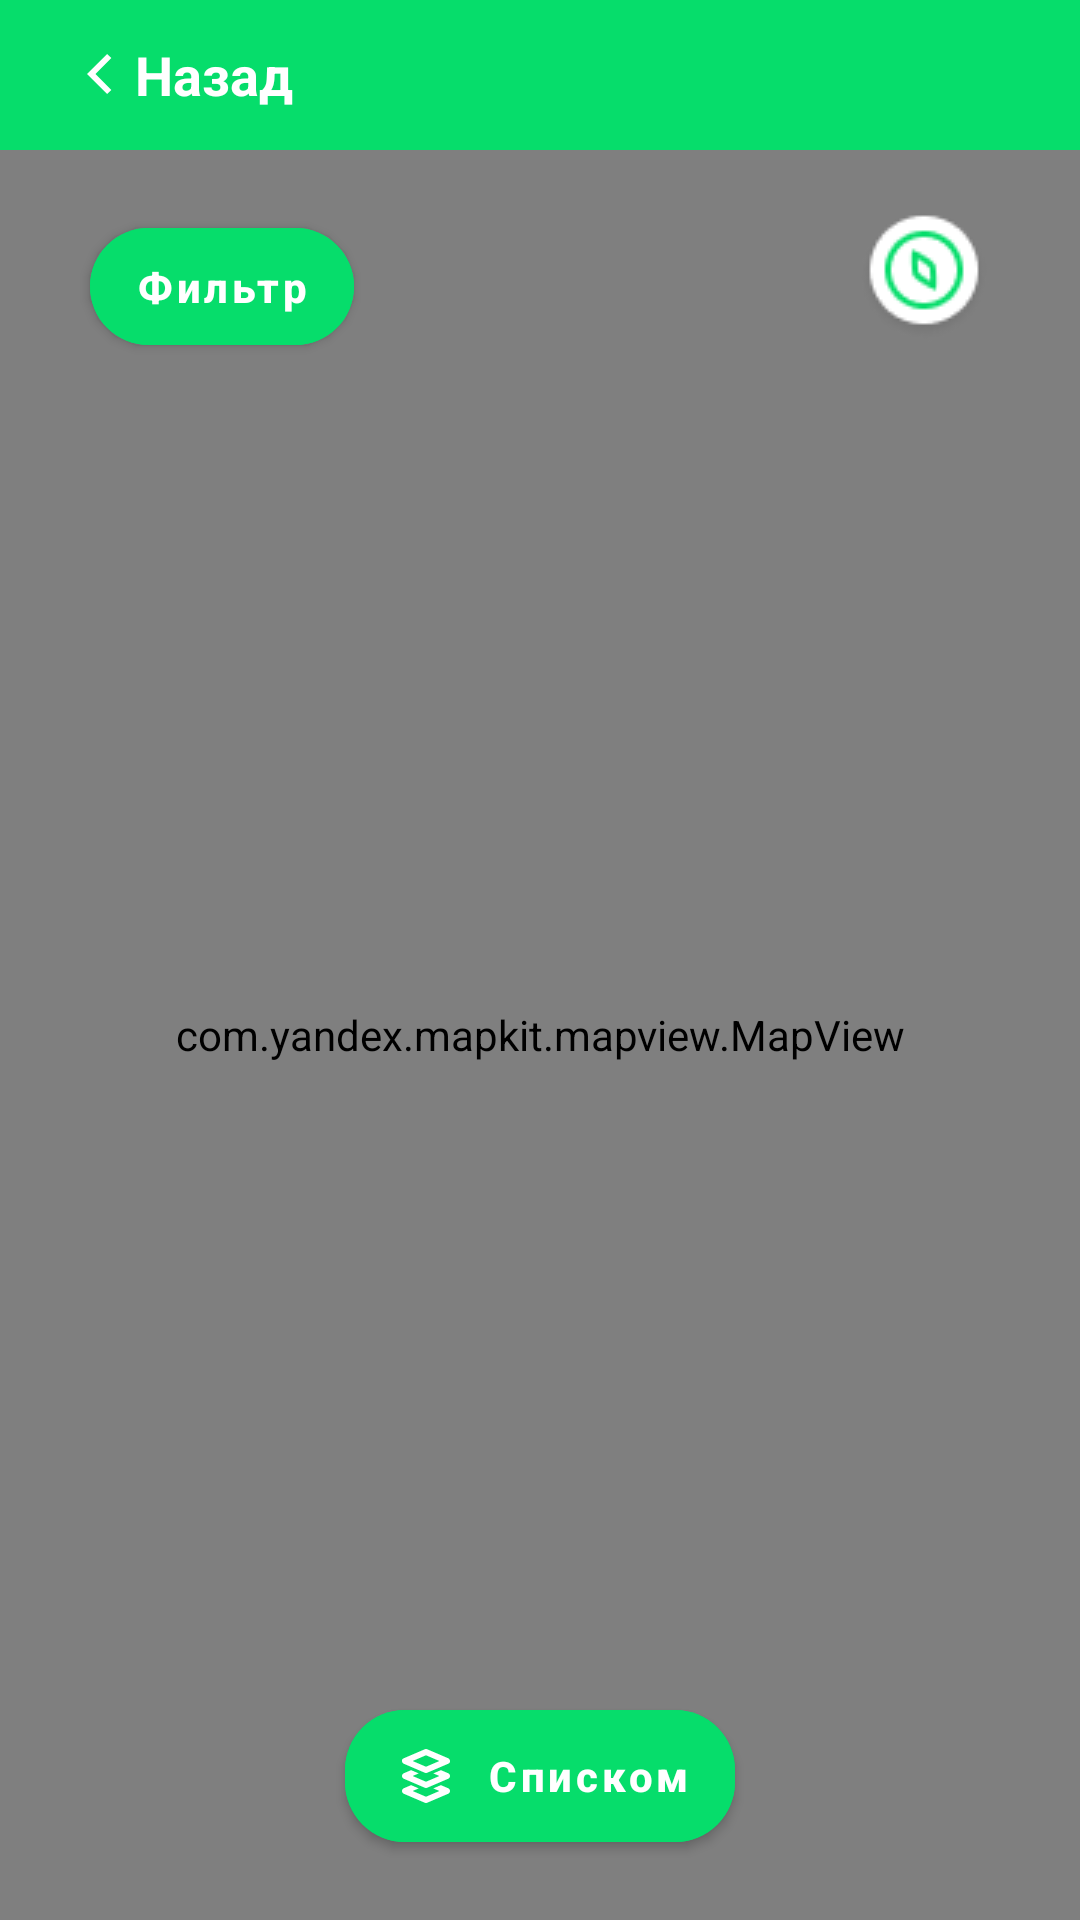

Icons on this 1080w x 1920h Android screen, each with its box as detection(x1, y1, x2, y2):
back: detection(87, 54, 111, 94)
